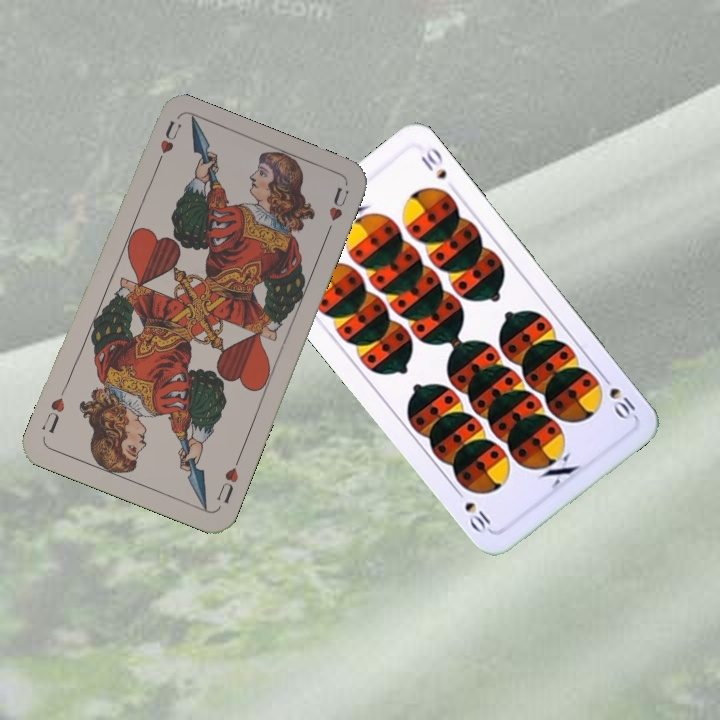HU: (150, 116, 183, 173), (212, 453, 243, 506)
S10: (597, 370, 638, 422)
